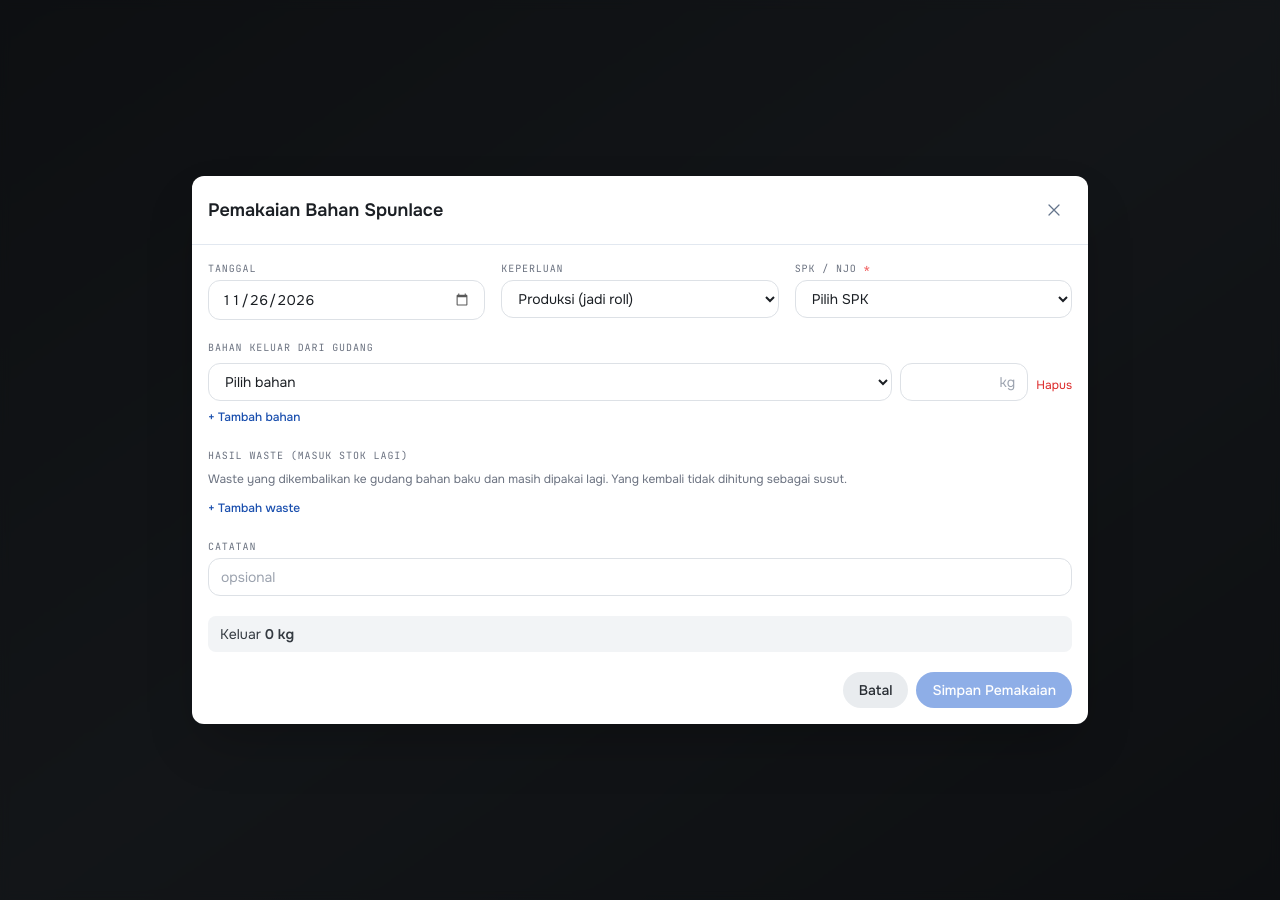
Test: modal Pemakaian Bahan Spunlace › jumlah yang diketik benar-benar masuk ke isian, bukan cuma terlihat
Type "120" into the field with placeholder "kg".
click(964, 382); type("120")  # box [900, 363, 1028, 401]
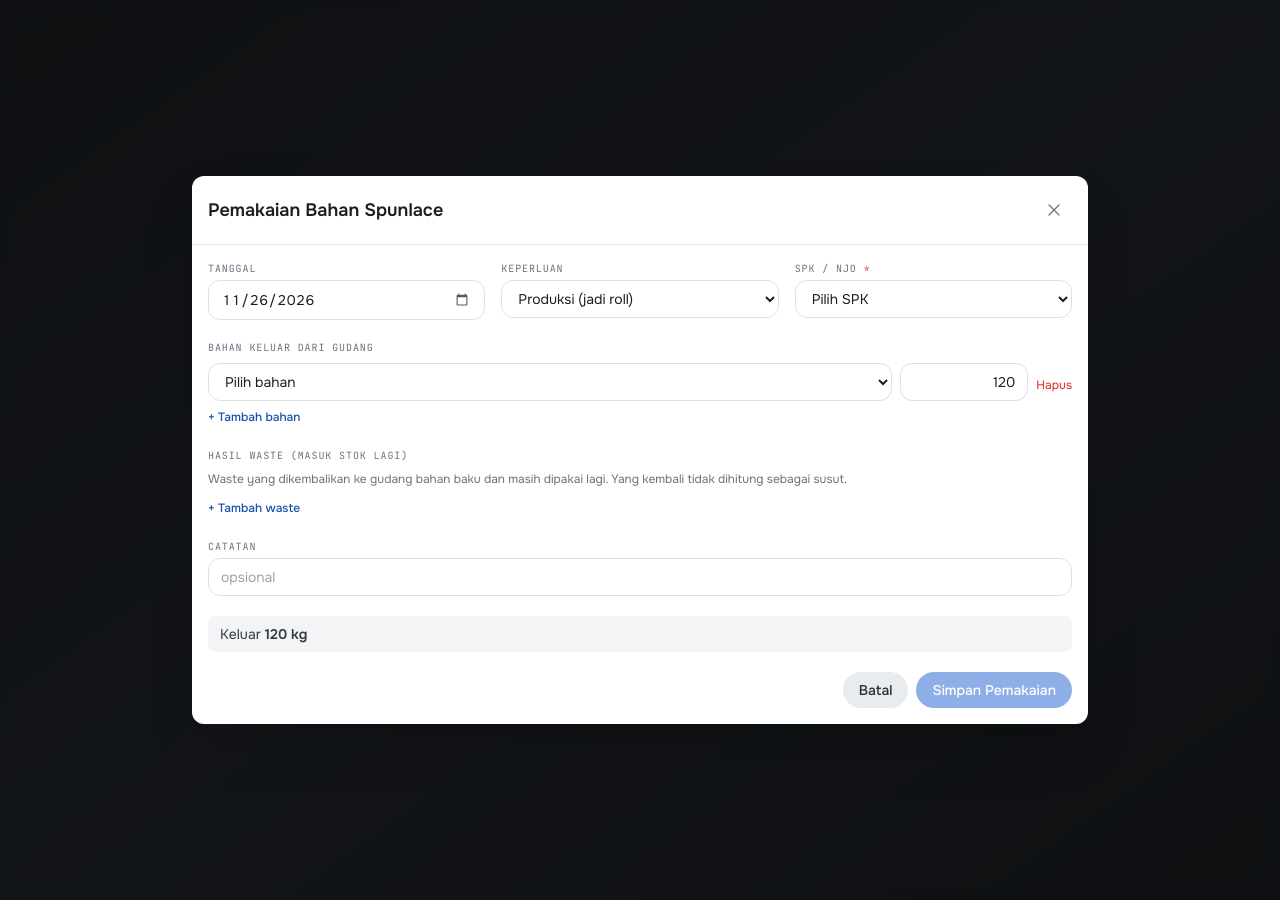
Expected: the text "120 kg" is shown, [265, 625, 307, 643]
